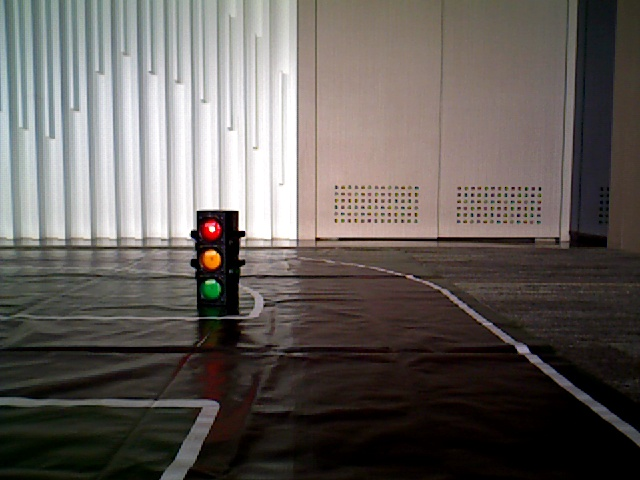red: (200, 214, 232, 304)
